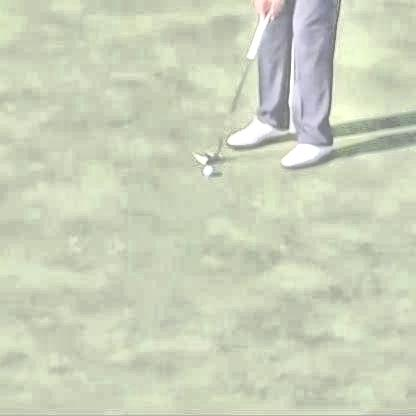golfball: (200, 164, 213, 175)
